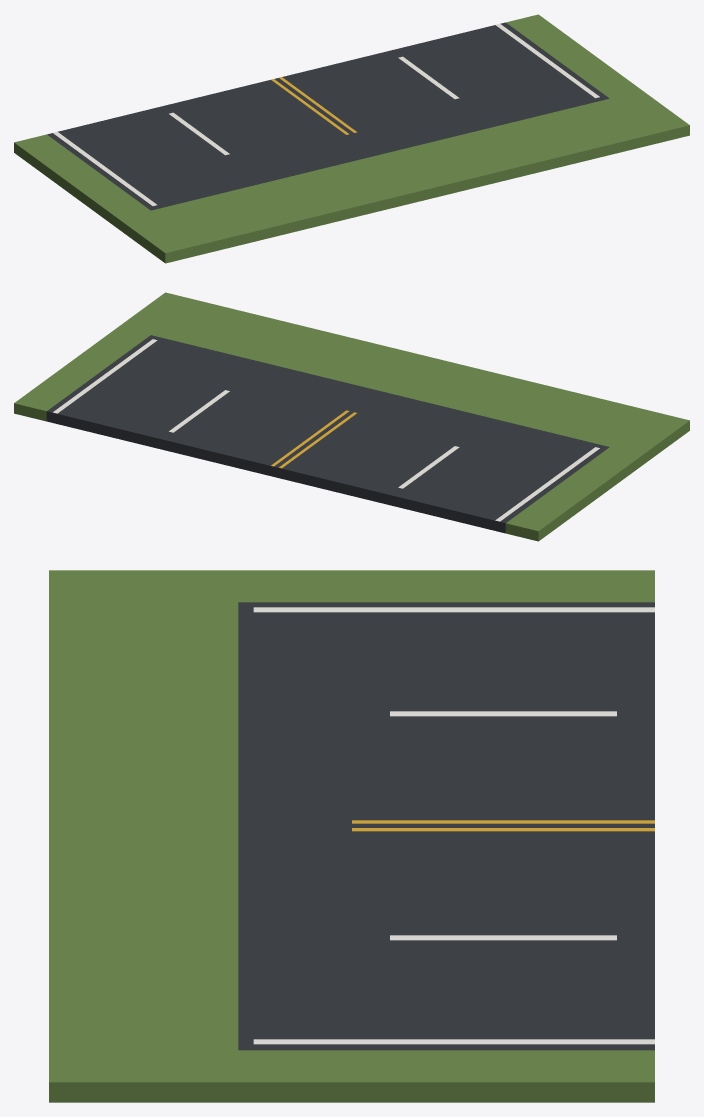
The model's file is Road_4Lane_NoSidewalk_EndCap_DeadEnd.glb.
3 views of the same model, one above another, from view 1: azimuth 30°, elevation 25°; view 2: azimuth 150°, elevation 25°; view 3: azimuth 270°, elevation 25° (orthographic). The views are drawn at different scales.
Parts seen in each view (by area): view 1: Road_4Lane_NoSidewalk_EndCap_DeadEnd_Asphalt, Road_4Lane_NoSidewalk_EndCap_DeadEnd_Grass-edge, Road_4Lane_NoSidewalk_EndCap_DeadEnd_PaintWhite, Road_4Lane_NoSidewalk_EndCap_DeadEnd_PaintYellow; view 2: Road_4Lane_NoSidewalk_EndCap_DeadEnd_Asphalt, Road_4Lane_NoSidewalk_EndCap_DeadEnd_Grass-edge, Road_4Lane_NoSidewalk_EndCap_DeadEnd_PaintWhite, Road_4Lane_NoSidewalk_EndCap_DeadEnd_PaintYellow; view 3: Road_4Lane_NoSidewalk_EndCap_DeadEnd_Asphalt, Road_4Lane_NoSidewalk_EndCap_DeadEnd_Grass-edge, Road_4Lane_NoSidewalk_EndCap_DeadEnd_PaintWhite, Road_4Lane_NoSidewalk_EndCap_DeadEnd_PaintYellow.
Boxes of the visible parts, <box> form: Road_4Lane_NoSidewalk_EndCap_DeadEnd_Asphalt: <box>47,22,609,210</box>; Road_4Lane_NoSidewalk_EndCap_DeadEnd_Grass-edge: <box>14,14,689,263</box>; Road_4Lane_NoSidewalk_EndCap_DeadEnd_PaintWhite: <box>53,23,599,205</box>; Road_4Lane_NoSidewalk_EndCap_DeadEnd_PaintYellow: <box>271,77,356,134</box>; Road_4Lane_NoSidewalk_EndCap_DeadEnd_Asphalt: <box>46,335,609,533</box>; Road_4Lane_NoSidewalk_EndCap_DeadEnd_Grass-edge: <box>14,292,689,541</box>; Road_4Lane_NoSidewalk_EndCap_DeadEnd_PaintWhite: <box>53,339,599,521</box>; Road_4Lane_NoSidewalk_EndCap_DeadEnd_PaintYellow: <box>271,410,356,468</box>; Road_4Lane_NoSidewalk_EndCap_DeadEnd_Asphalt: <box>238,602,654,1050</box>; Road_4Lane_NoSidewalk_EndCap_DeadEnd_Grass-edge: <box>49,570,654,1102</box>; Road_4Lane_NoSidewalk_EndCap_DeadEnd_PaintWhite: <box>253,607,654,1044</box>; Road_4Lane_NoSidewalk_EndCap_DeadEnd_PaintYellow: <box>352,820,654,831</box>.
Bounding box in the file's own units: 16 × 0.305 × 8.
